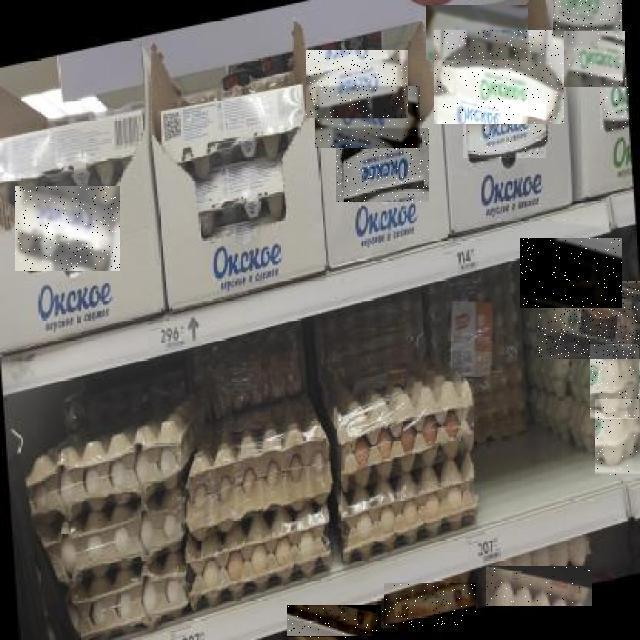Eggs: (434, 30, 564, 124), (15, 186, 120, 271), (537, 281, 640, 359), (520, 238, 622, 308), (307, 50, 409, 118), (336, 129, 429, 203), (316, 86, 422, 148), (426, 5, 528, 60), (463, 100, 546, 158), (486, 566, 592, 606), (384, 584, 476, 628), (590, 344, 639, 422), (564, 31, 625, 87), (595, 402, 640, 476), (288, 606, 384, 640), (553, 0, 622, 46), (600, 75, 629, 131)
